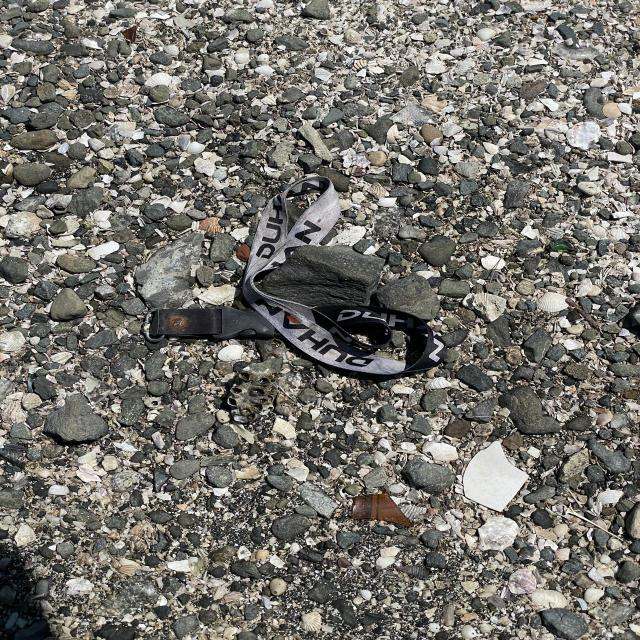textile_waste: (143, 177, 444, 384)
